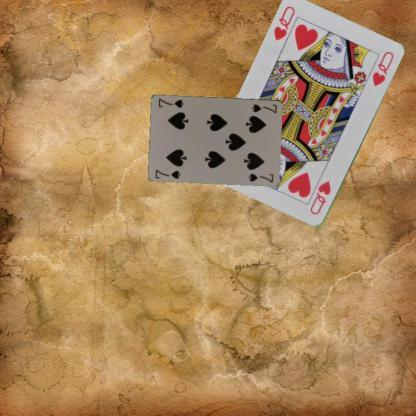7s: (249, 101, 278, 115), (153, 166, 182, 180)
Qh: (270, 3, 296, 43), (308, 178, 332, 216)
